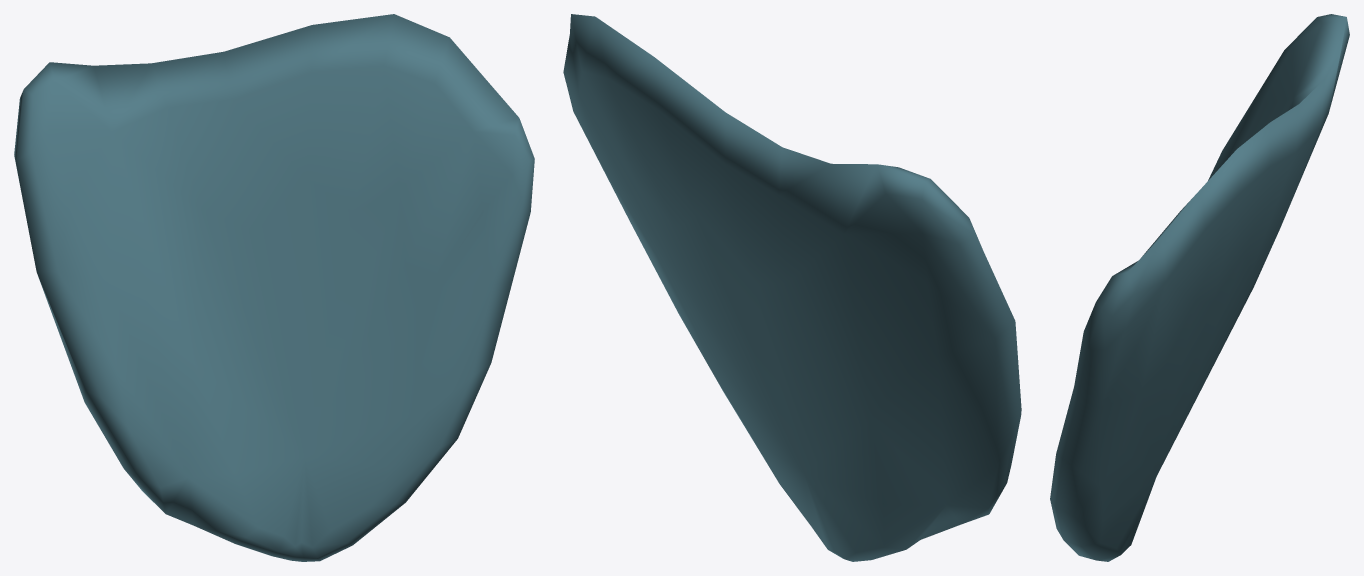
The model's file is Extensor_digitorum-proximal_phalanx-4th_finger.r_Generated_Mesh.glb.
3 renders of one model, left to right at view 1: azimuth 30°, elevation 25°; view 2: azimuth 150°, elevation 25°; view 3: azimuth 270°, elevation 25°, orthographic. The views are drawn at different scales.
Visible parts, largest first — view 1: Extensor_digitorum-proximal_phalanx-4th_finger.r_Generated_M; view 2: Extensor_digitorum-proximal_phalanx-4th_finger.r_Generated_M; view 3: Extensor_digitorum-proximal_phalanx-4th_finger.r_Generated_M.
Part boxes in pixels (<box>): Extensor_digitorum-proximal_phalanx-4th_finger.r_Generated_M: <box>14,14,534,561</box>; Extensor_digitorum-proximal_phalanx-4th_finger.r_Generated_M: <box>563,14,1021,561</box>; Extensor_digitorum-proximal_phalanx-4th_finger.r_Generated_M: <box>1050,14,1349,561</box>.
Size of the model in its own units: 0.00546 by 0.00556 by 0.00312.
